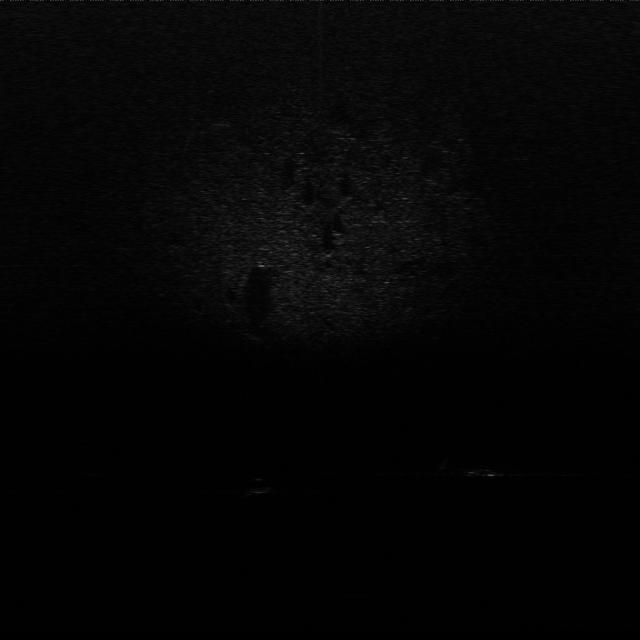ball: (242, 474, 274, 496)
human body: (443, 453, 546, 483)
